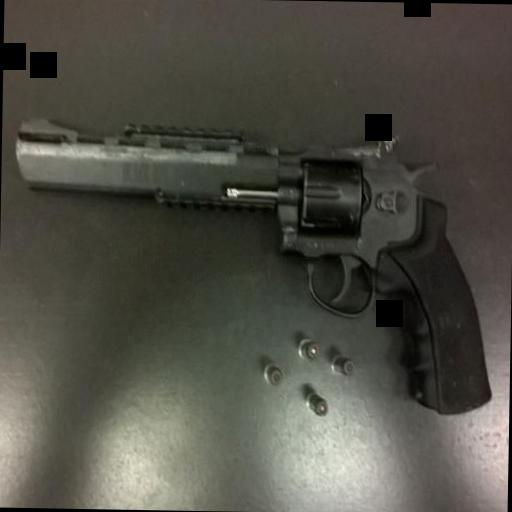Handgun: (4, 100, 498, 423)
